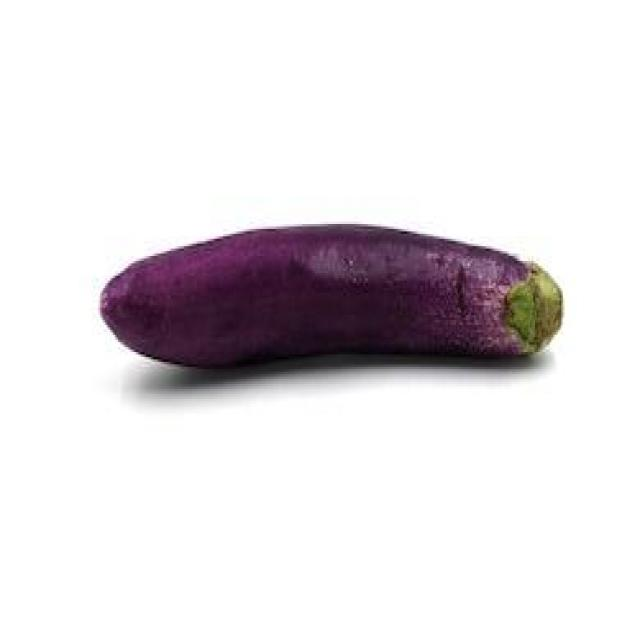eggplant: (94, 217, 566, 375)
